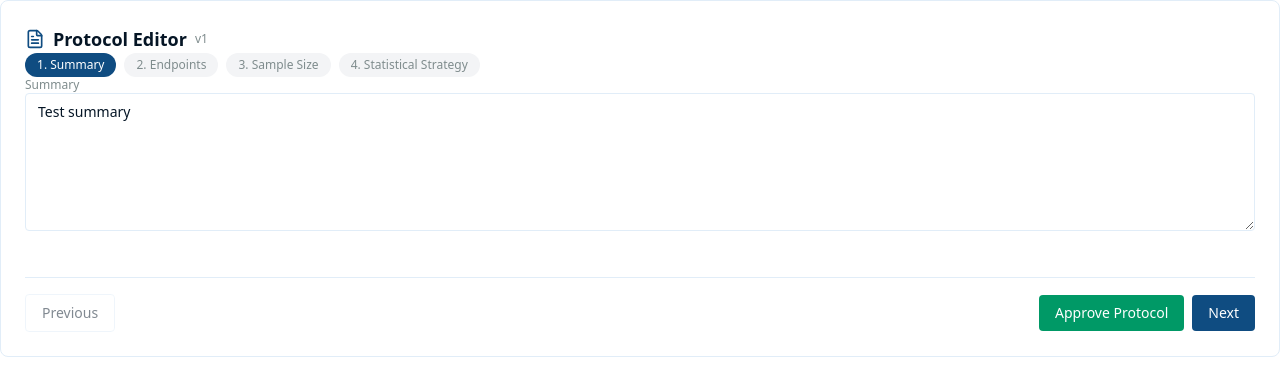
Scenario: ProtocolEditor › disables next button on last step
# Navigate to last step (step 4)
Click the button with test id "next-btn": [1224, 313] box [1192,295,1255,331]
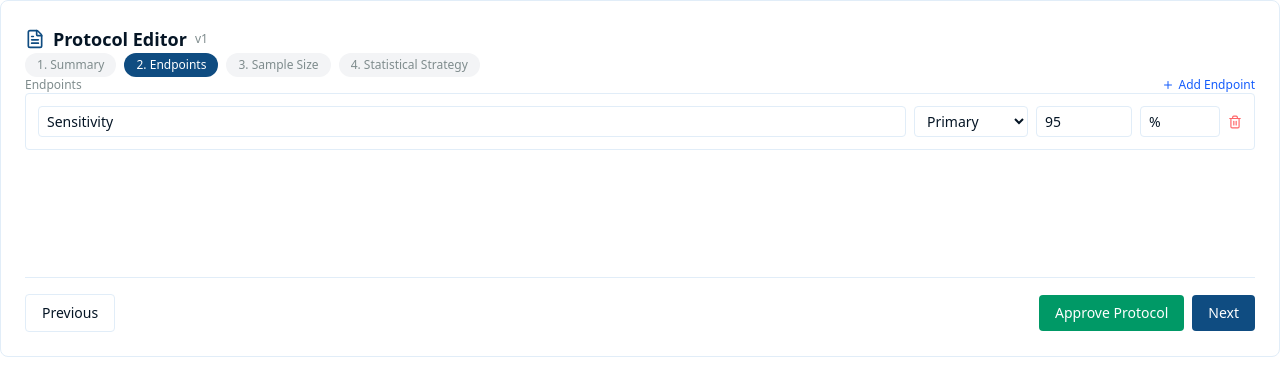
Click the button with test id "next-btn": [1224, 313] box [1192,295,1255,331]
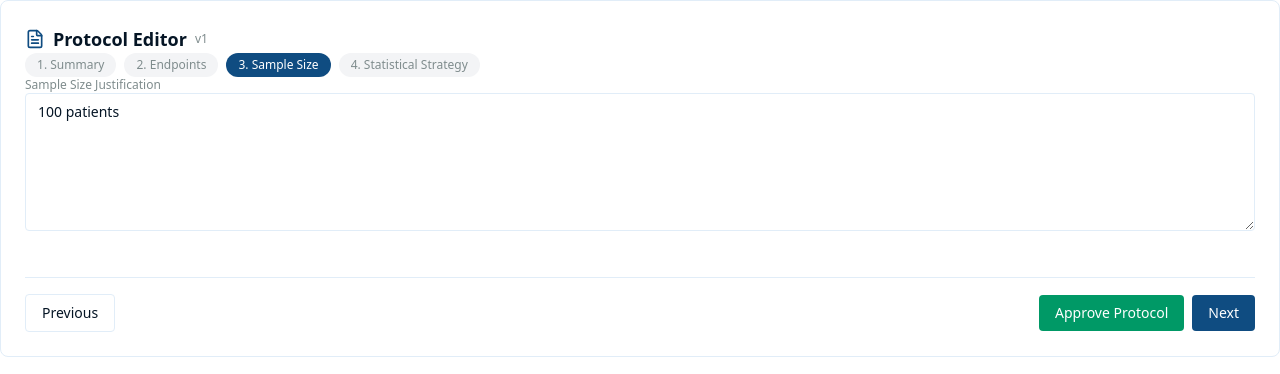
Click the button with test id "next-btn": [1224, 313] box [1192,295,1255,331]
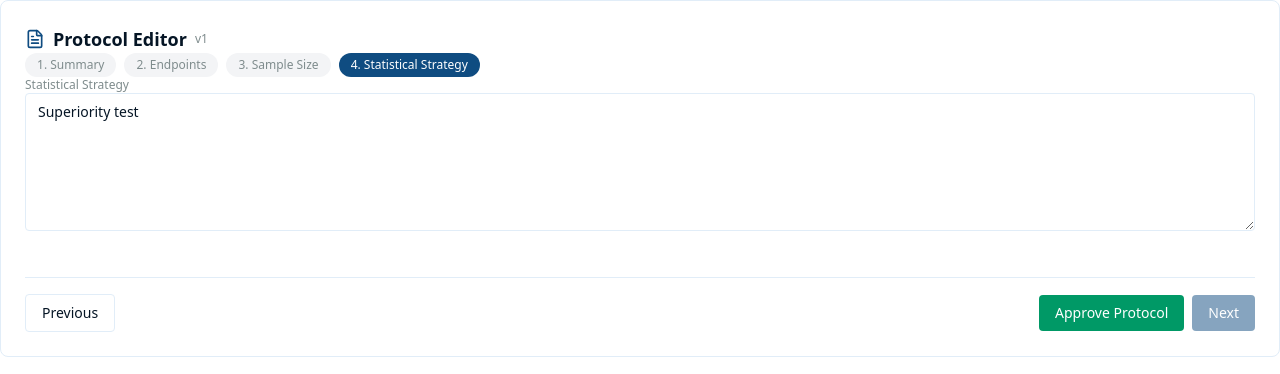
expect the button with test id "next-btn" is disabled: met, box [1192,295,1255,331]
expect the element with test id "step-4-content" is shown: met, box [25,77,1255,237]
